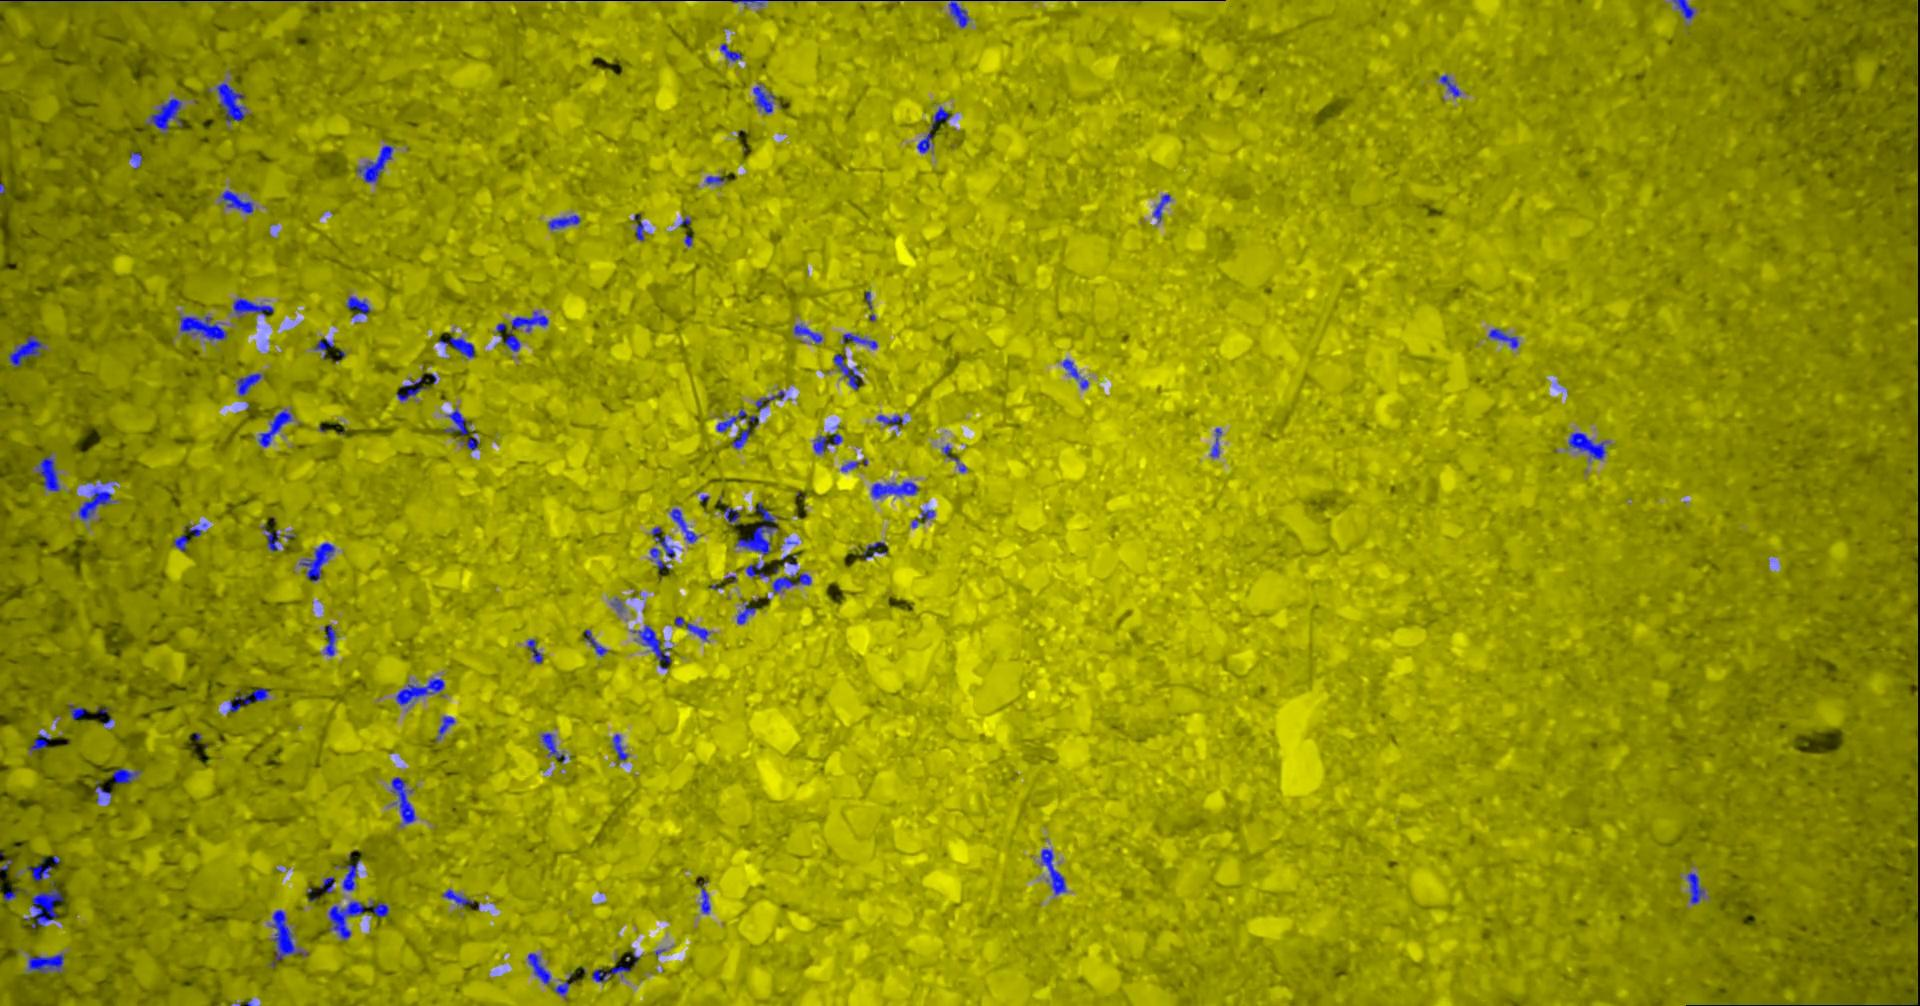ant: (328, 901, 389, 940), (734, 502, 778, 554), (269, 909, 307, 967), (497, 311, 549, 351), (24, 880, 62, 929), (630, 624, 670, 668), (916, 105, 949, 152), (443, 408, 479, 450), (356, 145, 392, 182), (298, 542, 334, 580), (649, 526, 674, 578), (395, 677, 444, 704), (258, 409, 292, 446), (77, 486, 116, 520), (146, 97, 182, 130), (1040, 848, 1065, 894), (179, 316, 226, 340), (8, 335, 43, 367), (216, 83, 245, 121), (391, 777, 415, 823), (833, 353, 863, 389), (227, 687, 269, 713), (1568, 432, 1605, 459), (670, 508, 697, 542), (716, 409, 758, 431), (674, 616, 709, 640), (334, 859, 359, 890), (870, 481, 918, 498), (37, 455, 58, 492), (1062, 358, 1088, 387), (220, 191, 253, 213), (527, 951, 550, 984), (771, 573, 810, 592), (27, 953, 63, 973), (232, 298, 273, 316), (438, 337, 474, 357), (541, 733, 565, 762), (396, 377, 427, 400), (25, 857, 51, 882), (752, 86, 775, 113), (583, 629, 606, 655), (756, 390, 783, 412), (1488, 328, 1517, 348), (590, 965, 629, 981), (813, 433, 841, 453), (792, 324, 822, 343), (236, 373, 262, 395), (949, 0, 969, 27), (842, 333, 877, 348), (1686, 873, 1704, 903), (442, 888, 472, 906), (547, 213, 580, 229), (1439, 74, 1460, 97), (345, 296, 370, 316), (551, 973, 571, 997), (1152, 194, 1170, 221), (436, 716, 455, 741), (323, 624, 337, 655), (262, 525, 278, 551), (1671, 0, 1694, 19), (910, 509, 935, 527), (110, 767, 138, 782), (876, 414, 902, 431), (861, 541, 886, 558), (612, 734, 629, 760), (28, 733, 50, 752), (719, 43, 742, 61), (731, 426, 749, 448), (312, 338, 333, 357), (527, 638, 542, 663), (696, 884, 709, 913), (745, 561, 770, 577), (737, 605, 756, 624), (841, 459, 867, 471), (1210, 428, 1222, 456), (632, 213, 644, 240), (723, 506, 738, 525), (69, 704, 88, 719), (317, 876, 334, 893), (173, 533, 188, 551), (3, 887, 19, 901), (130, 151, 142, 168), (705, 175, 726, 183), (731, 0, 767, 4)
